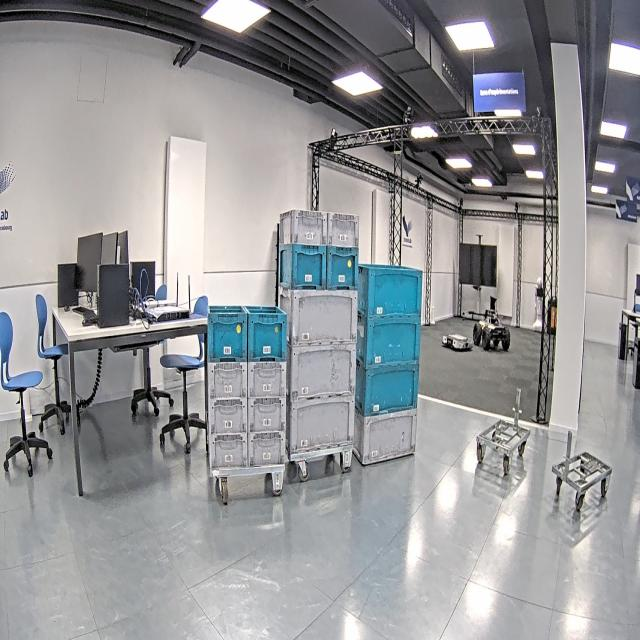Box4G: (278, 282, 357, 341), (286, 394, 355, 451), (283, 346, 357, 395), (354, 408, 418, 464)
Box8G: (281, 208, 327, 244), (208, 396, 248, 436), (208, 362, 248, 399), (208, 432, 248, 469), (248, 362, 288, 398), (248, 396, 288, 432), (247, 432, 286, 467), (328, 214, 360, 247)
BoxB4: (357, 364, 421, 415), (357, 316, 422, 365), (358, 267, 422, 313)
BoxB8: (278, 243, 327, 290), (206, 306, 246, 363), (248, 307, 288, 361), (326, 248, 361, 290)
